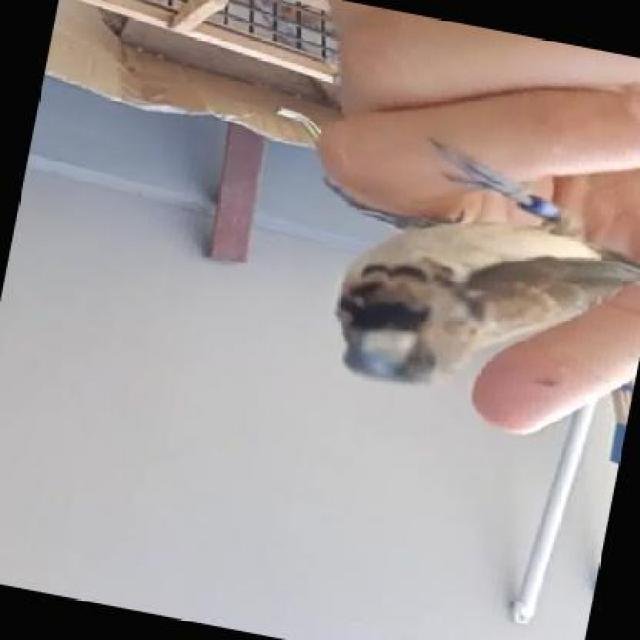Bird: (318, 152, 640, 451)
